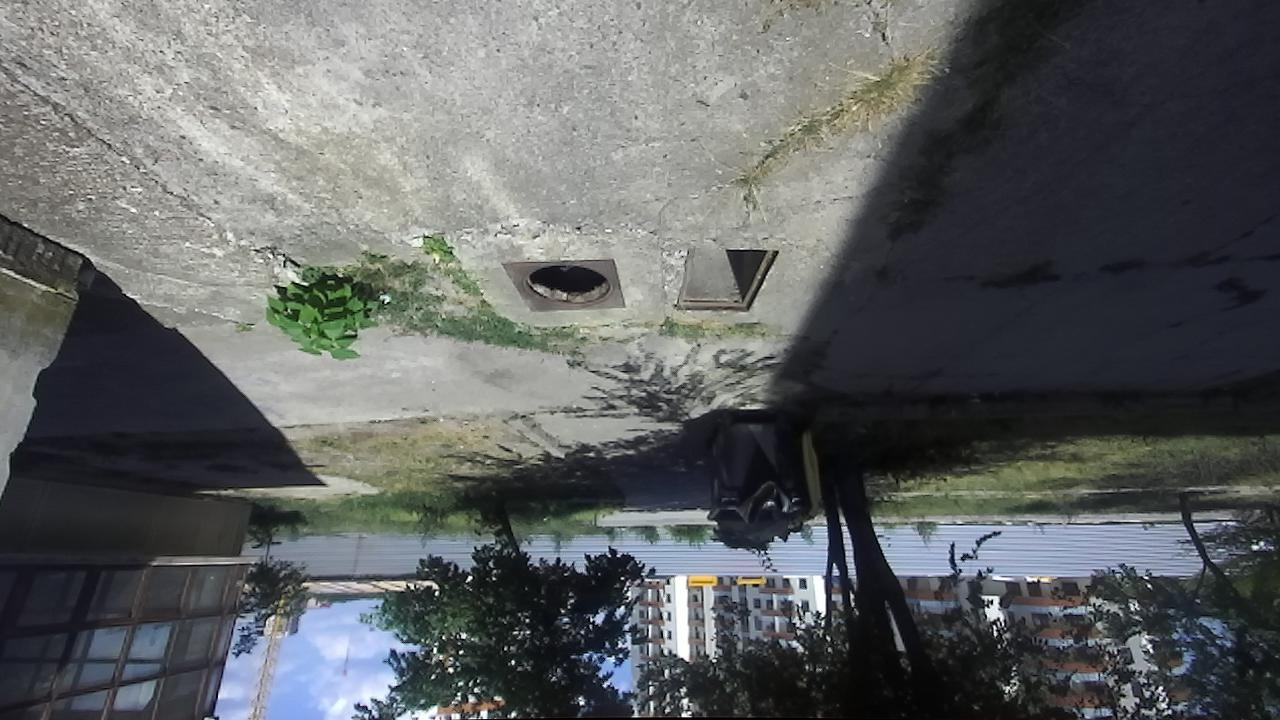drain: (672, 245, 785, 315), (520, 265, 615, 311)
